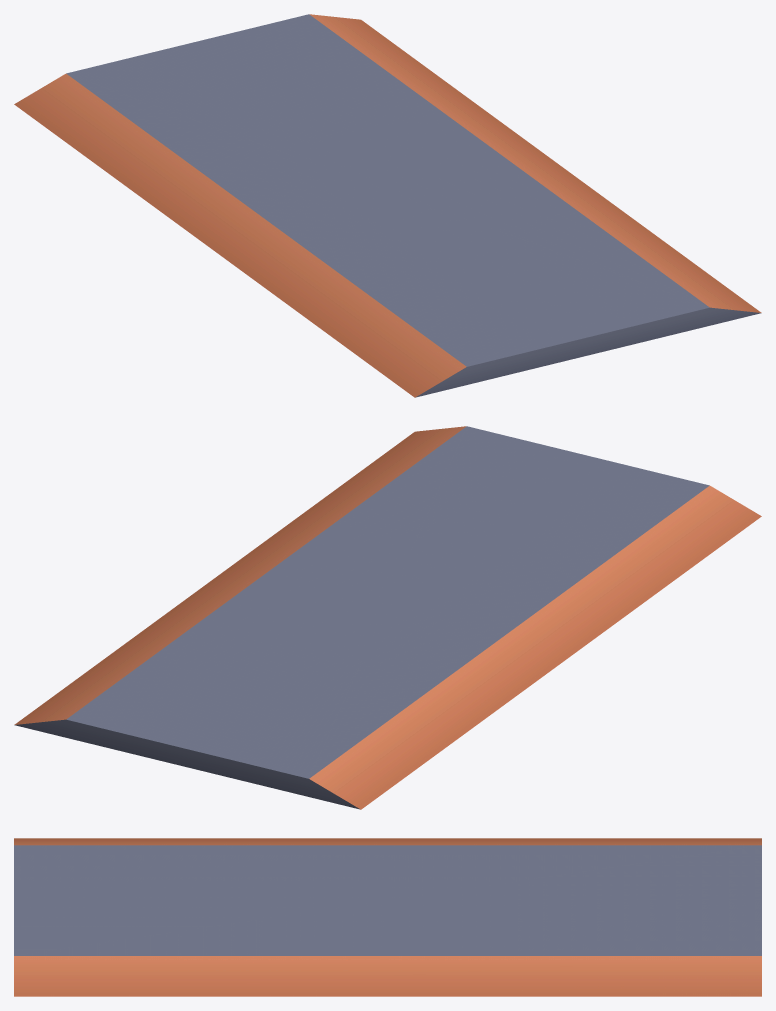
The model's file is path-long.draco.glb.
The picture shows the model from 3 angles, top to bottom: view 1: azimuth 30°, elevation 25°; view 2: azimuth 150°, elevation 25°; view 3: azimuth 270°, elevation 25°; orthographic projection. The views are drawn at different scales.
Visible parts, largest first — view 1: path-long; view 2: path-long; view 3: path-long.
Boxes of the visible parts, x1=… form: path-long: x1=14, y1=14, x2=761, y2=397; path-long: x1=14, y1=426, x2=761, y2=809; path-long: x1=14, y1=838, x2=761, y2=996.
Size of the model in its own units: 0.2 by 0.01 by 0.4.
1 material, 1 textured.
